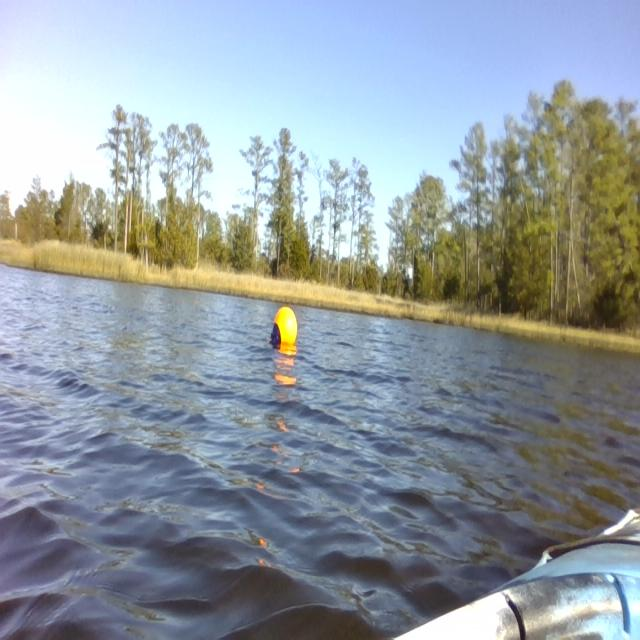Buoy: (263, 300, 304, 351)
